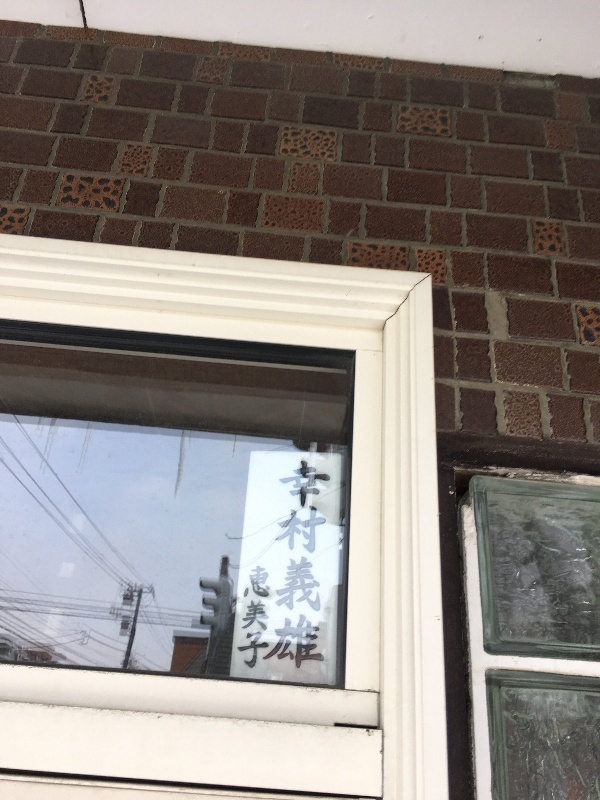text: (289, 461, 304, 677), (305, 461, 320, 677), (321, 461, 331, 677), (257, 566, 273, 674), (281, 461, 288, 677), (247, 566, 256, 674)
